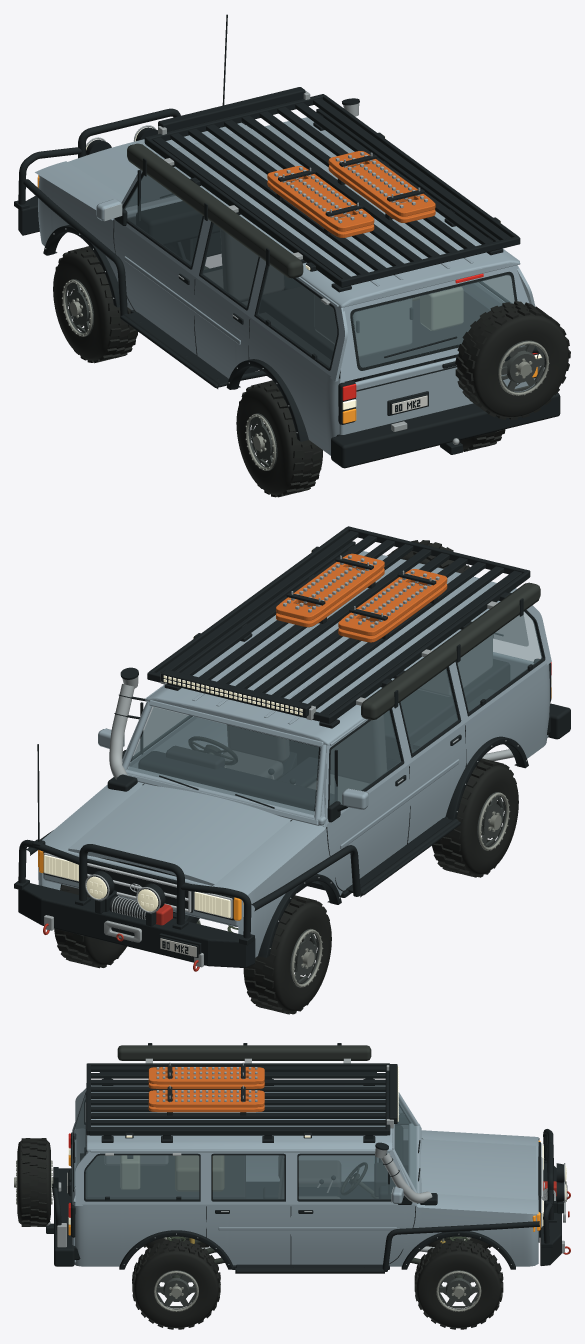
The model's file is sooty80-proposal-v1.glb.
3 views of the same model, one above another, from view 1: azimuth 30°, elevation 25°; view 2: azimuth 150°, elevation 25°; view 3: azimuth 270°, elevation 25° (orthographic). The views are drawn at different scales.
Parts seen in each view (by area): view 1: body-cabin-and-equipment, gq-patrol; view 2: body-cabin-and-equipment, gq-patrol, instruments; view 3: body-cabin-and-equipment, gq-patrol, instruments.
Part boxes in pixels (x1,y1,x2,y2): body-cabin-and-equipment: (14,14,570,468); gq-patrol: (53,151,505,497); body-cabin-and-equipment: (14,526,570,971); gq-patrol: (54,553,518,1014); instruments: (188,736,237,765); body-cabin-and-equipment: (14,1043,570,1273); gq-patrol: (132,1062,503,1329); instruments: (340,1162,367,1195).
Bounding box in the file's own units: 2.35 × 2.33 × 5.62.
